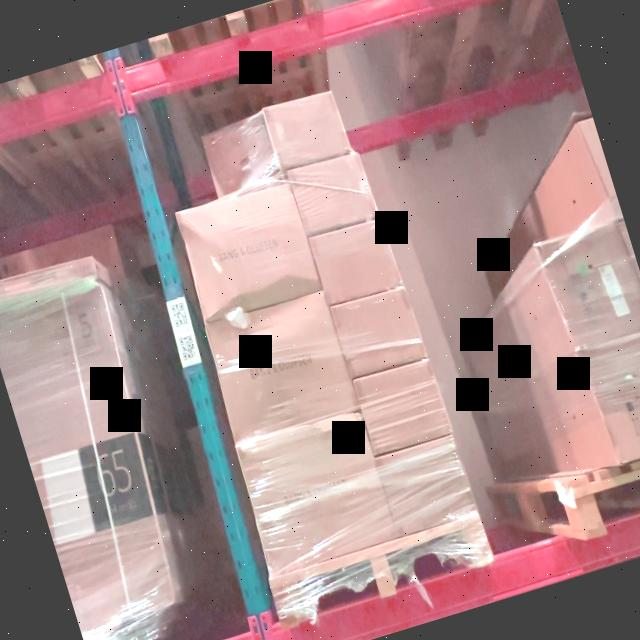box: (236, 412, 398, 576), (205, 293, 357, 442), (176, 179, 322, 321), (540, 223, 640, 352), (378, 438, 476, 534), (354, 360, 450, 456), (333, 290, 425, 378), (290, 151, 378, 235), (312, 220, 399, 304), (585, 333, 640, 463), (266, 88, 351, 169), (202, 117, 282, 198), (0, 252, 102, 304), (582, 117, 624, 220)
